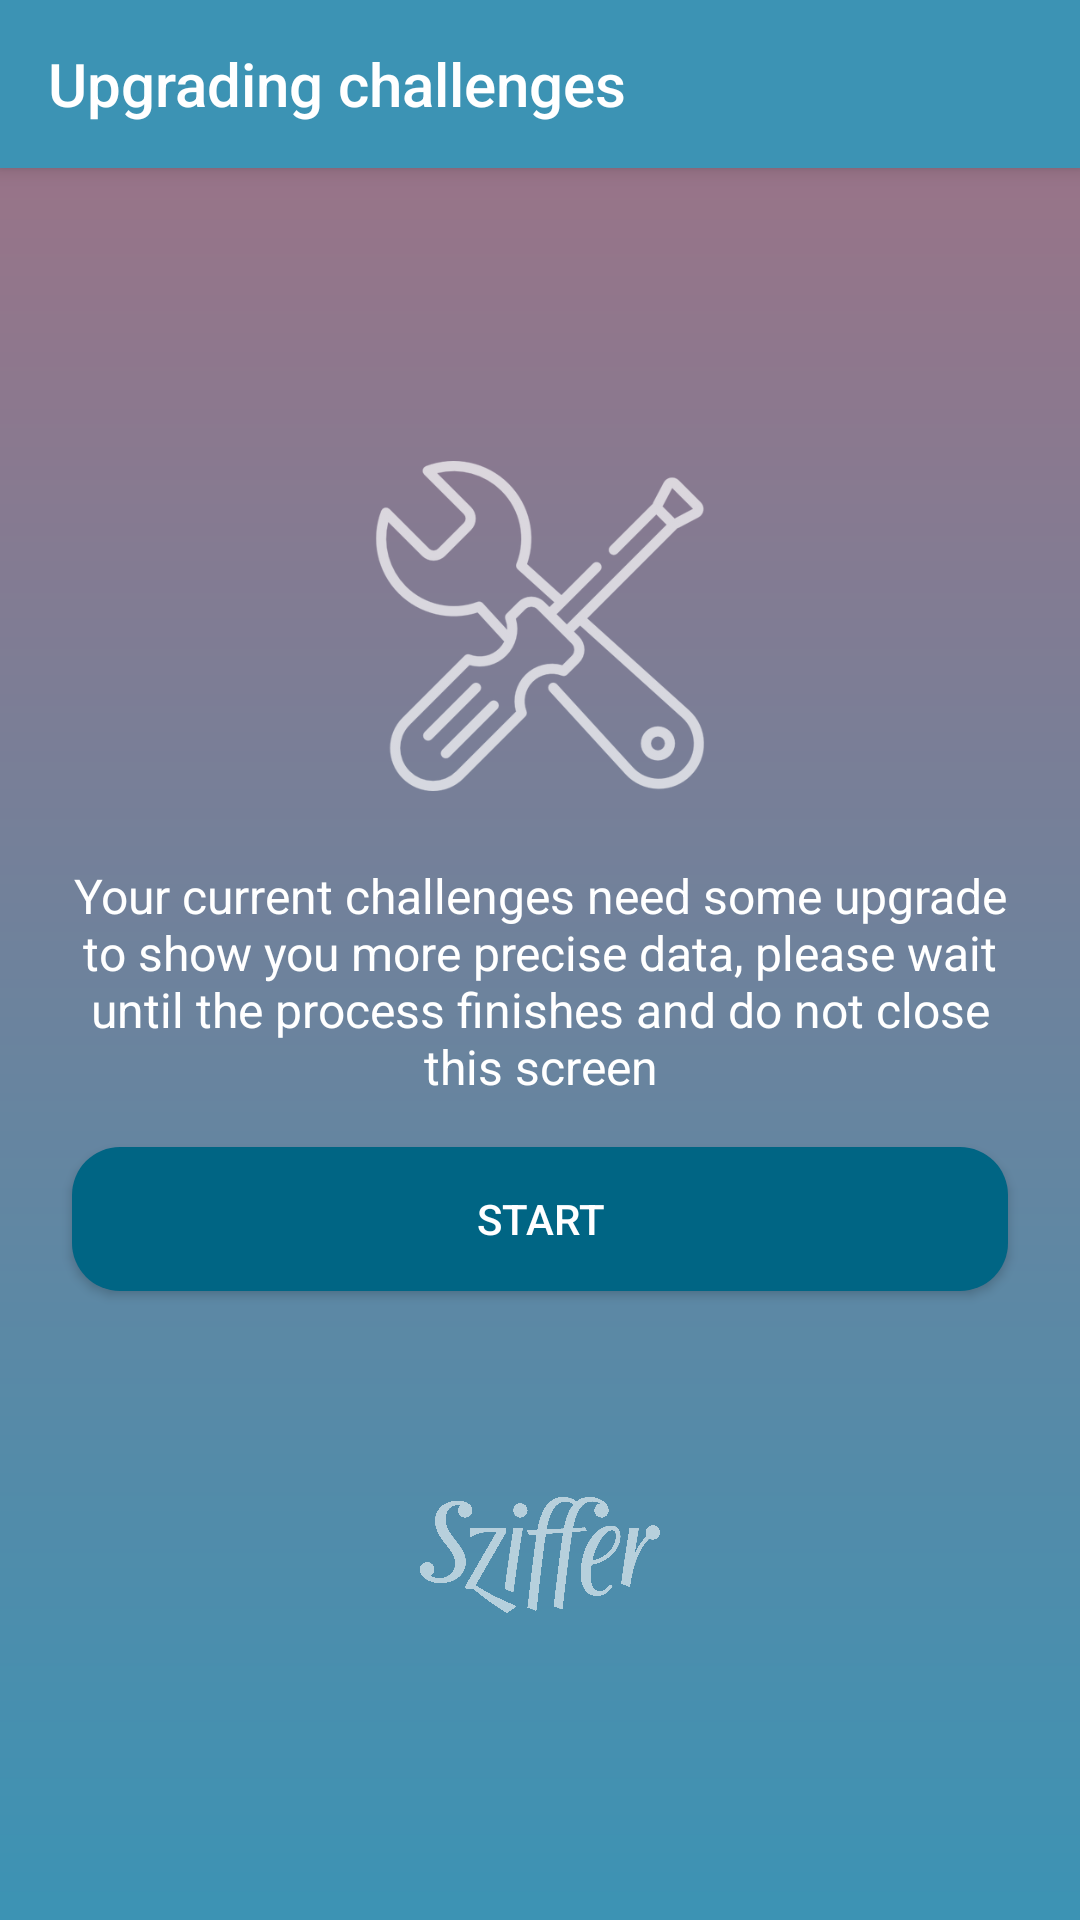

Screen size 1080*1920. Icon name, then its box in pixels as (x1, y1, x2, y2):
settings: (376, 461, 704, 791)
